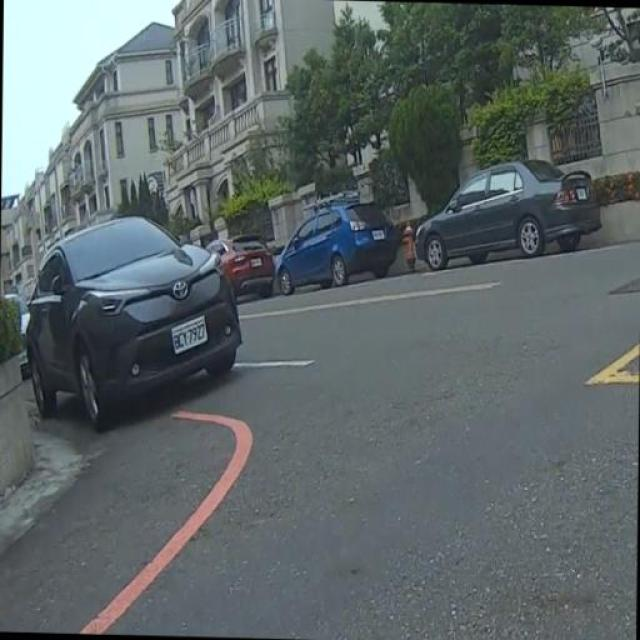Legalparking: (210, 152, 630, 302)
illegalparking: (25, 216, 241, 430)
